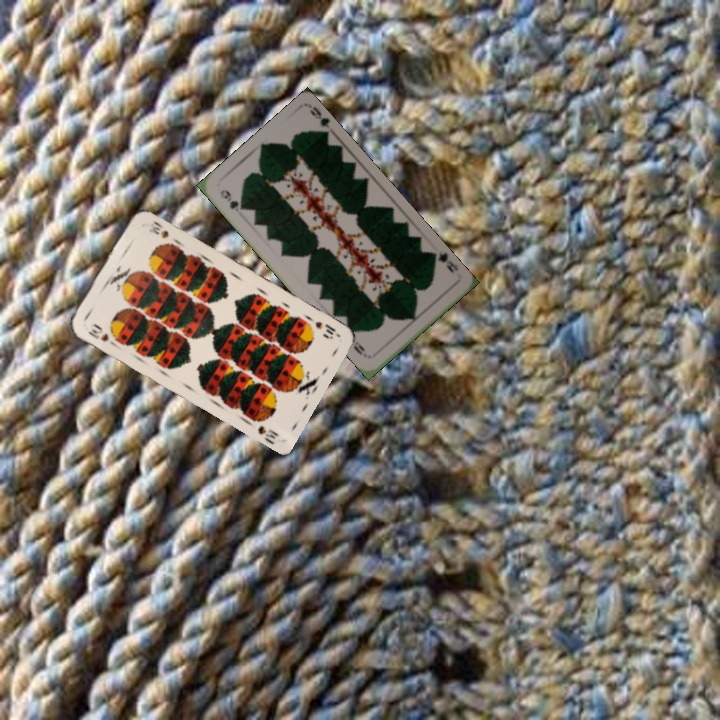G9: (216, 185, 247, 214), (428, 249, 461, 275)
S10: (84, 321, 118, 348), (311, 317, 339, 341)
